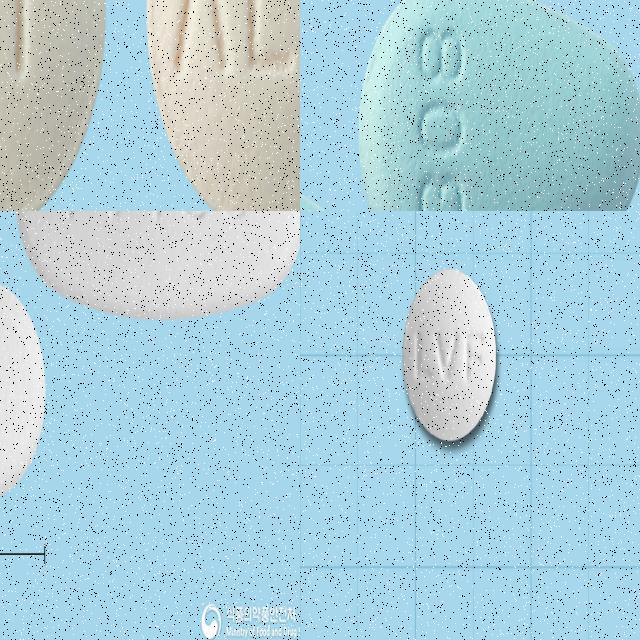Famvir -750mg: (14, 211, 300, 320)
Levo-F: (403, 267, 496, 444)
Levotam: (146, 0, 300, 211), (0, 0, 107, 211)
Teva Azathioprine Tab: (359, 0, 640, 211)
